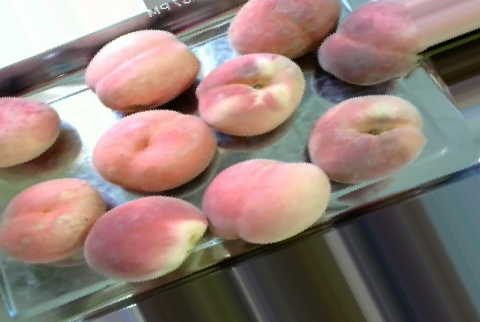Peach: (203, 159, 329, 243), (307, 94, 424, 183), (85, 194, 204, 280), (92, 109, 214, 192), (315, 2, 436, 85), (87, 27, 198, 110), (196, 53, 306, 135), (3, 178, 103, 263), (228, 0, 340, 59), (0, 96, 64, 170)
